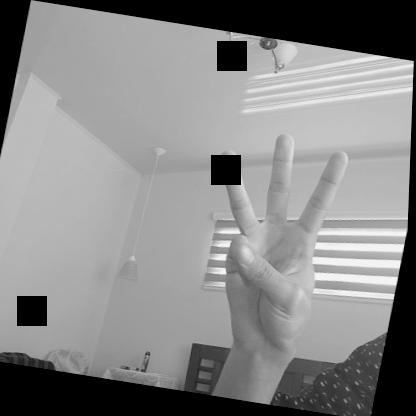W: (186, 122, 354, 354)
